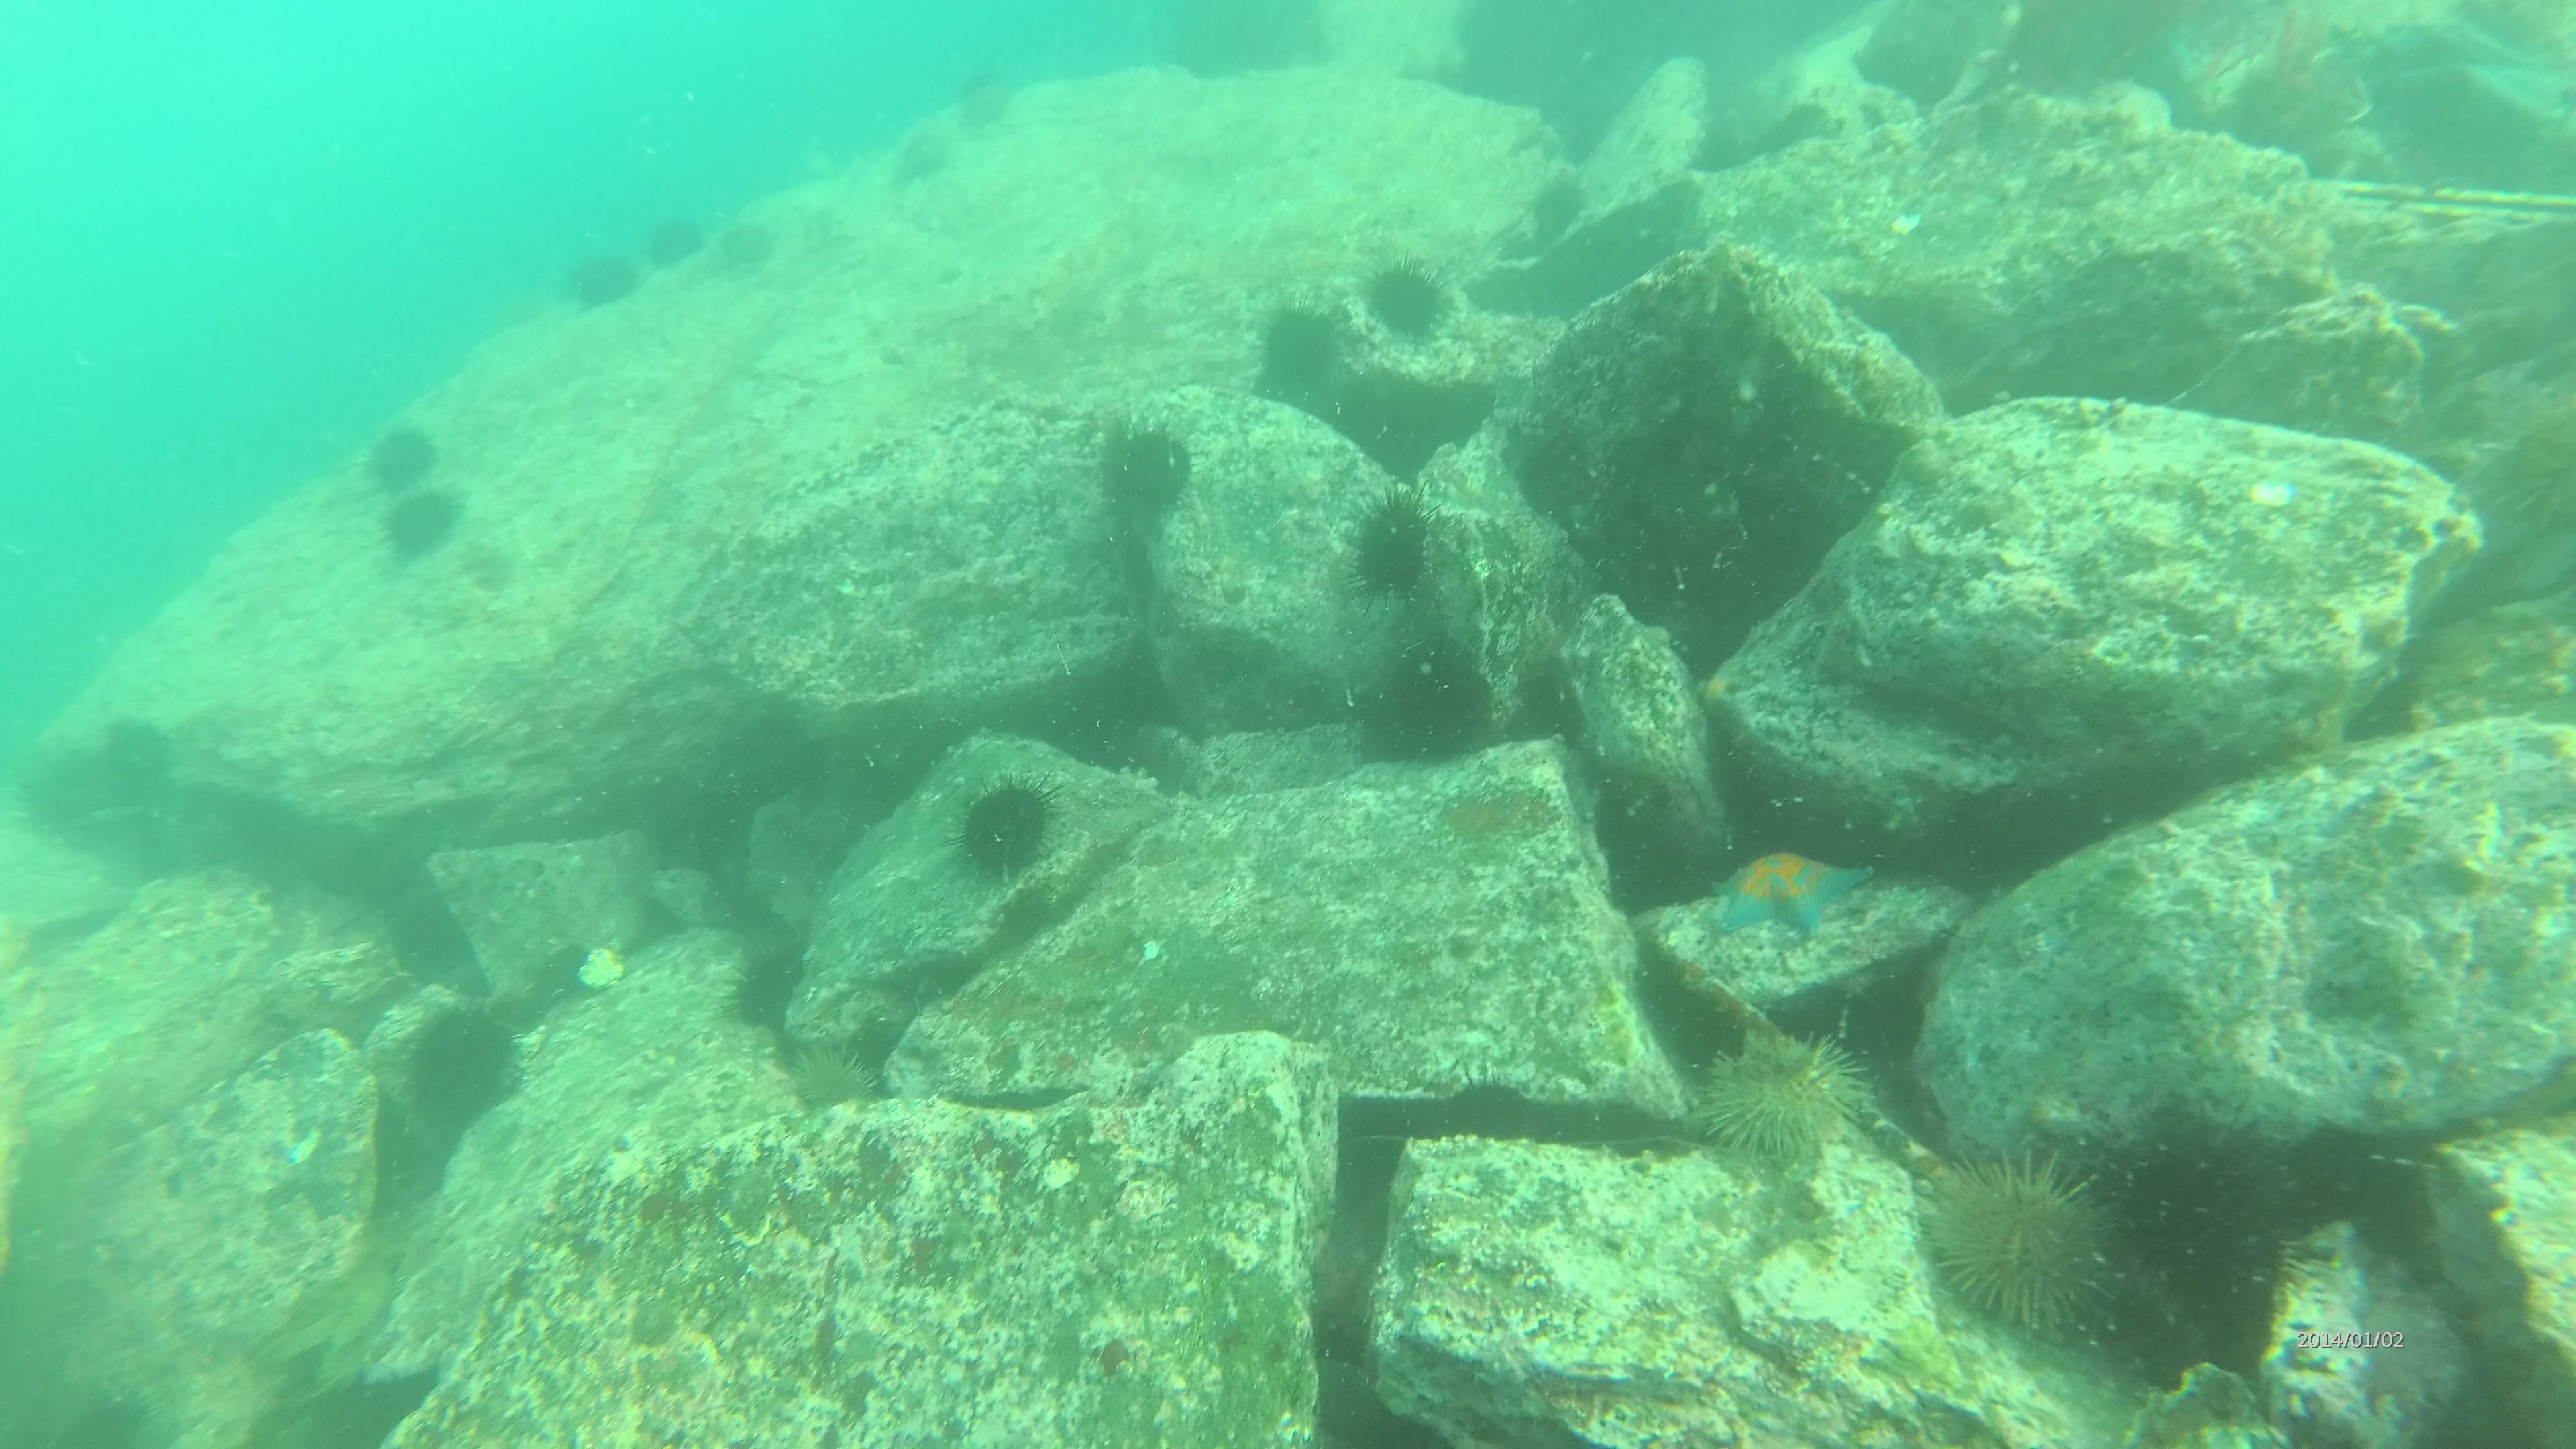echinus: (2089, 1092, 2325, 1323), (1927, 1141, 2121, 1329), (1693, 1026, 1870, 1155), (396, 1001, 527, 1125), (1334, 479, 1454, 605), (952, 773, 1060, 890), (775, 1039, 897, 1131), (1249, 287, 1352, 395), (1104, 419, 1208, 524), (1357, 253, 1458, 357), (92, 715, 180, 793), (373, 494, 460, 566), (356, 421, 437, 497), (888, 120, 959, 186), (947, 69, 1017, 133), (559, 249, 632, 311), (635, 211, 706, 264)
starfish: (1706, 835, 1884, 941)
